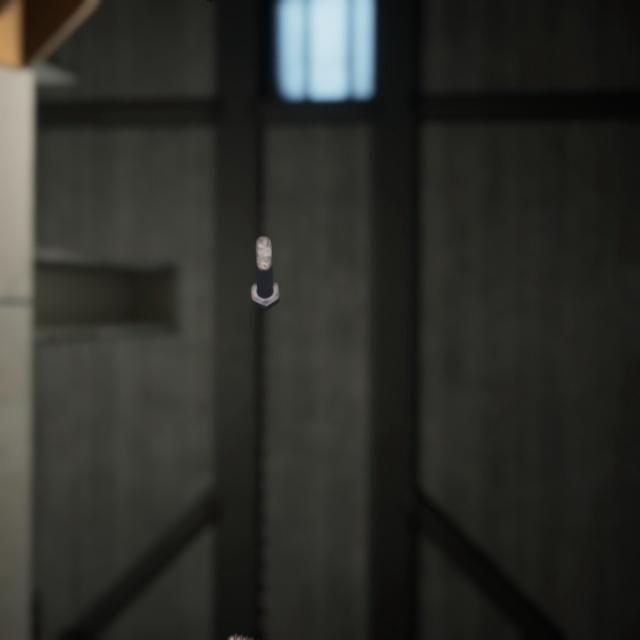bolt: (246, 213, 284, 297), (222, 603, 308, 640)
